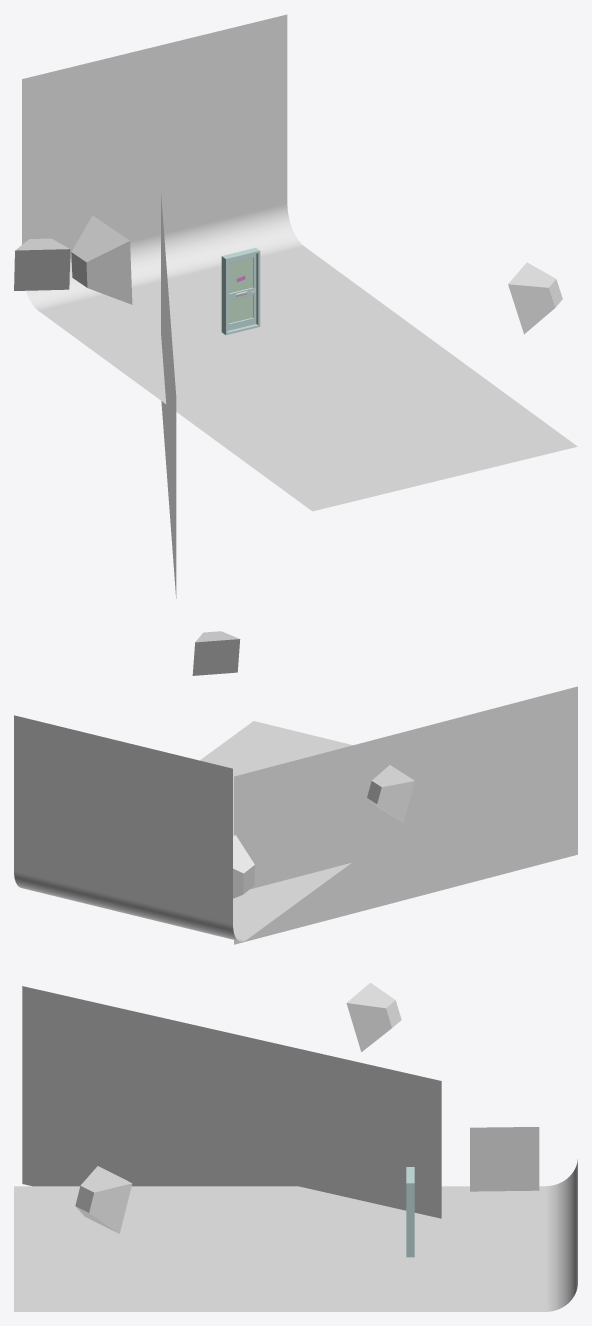
Rendered from door with closed sign.fbx.
3 renders of one model, top to bottom at view 1: azimuth 30°, elevation 25°; view 2: azimuth 150°, elevation 25°; view 3: azimuth 270°, elevation 25°, orthographic. The views are drawn at different scales.
Parts seen in each view (by area): view 1: Plane, lamp1, Plane.001, lamp2.001, lamp2, door.001, door frame; view 2: Plane.001, Plane, lamp2, lamp2.001, lamp1; view 3: Plane, Plane.001, lamp1, lamp2, lamp2.001, door frame.
Part boxes in pixels (bbox=[...]): Plane: bbox=[22, 14, 577, 511]; lamp1: bbox=[71, 215, 132, 304]; Plane.001: bbox=[161, 194, 176, 598]; lamp2.001: bbox=[14, 238, 70, 290]; lamp2: bbox=[508, 262, 562, 334]; door.001: bbox=[227, 253, 256, 330]; door frame: bbox=[221, 247, 260, 334]; Plane.001: bbox=[234, 686, 577, 944]; Plane: bbox=[14, 715, 352, 941]; lamp2: bbox=[192, 631, 240, 675]; lamp2.001: bbox=[367, 765, 414, 823]; lamp1: bbox=[233, 835, 254, 898]; Plane: bbox=[14, 1159, 577, 1311]; Plane.001: bbox=[22, 986, 441, 1218]; lamp1: bbox=[470, 1127, 539, 1191]; lamp2: bbox=[75, 1166, 132, 1233]; lamp2.001: bbox=[346, 982, 401, 1051]; door frame: bbox=[406, 1167, 414, 1257].
Bounding box in the file's own units: 1157 × 740 × 1383.
